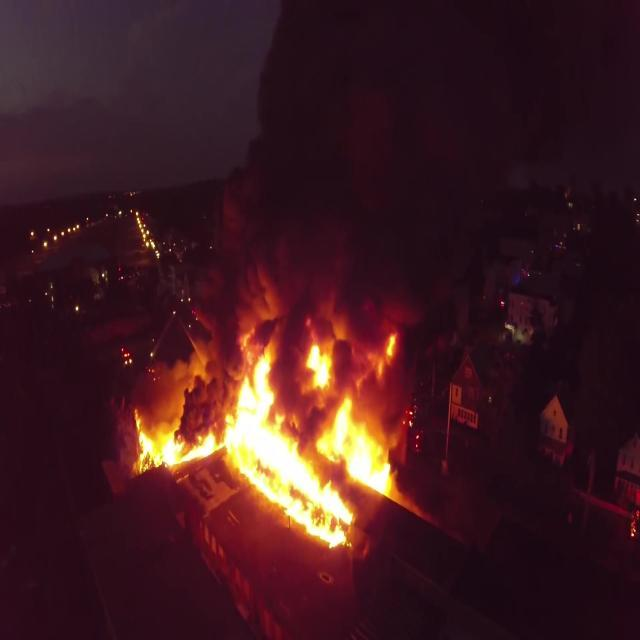Fire: (111, 214, 432, 556)
Smoke: (202, 0, 525, 203)
